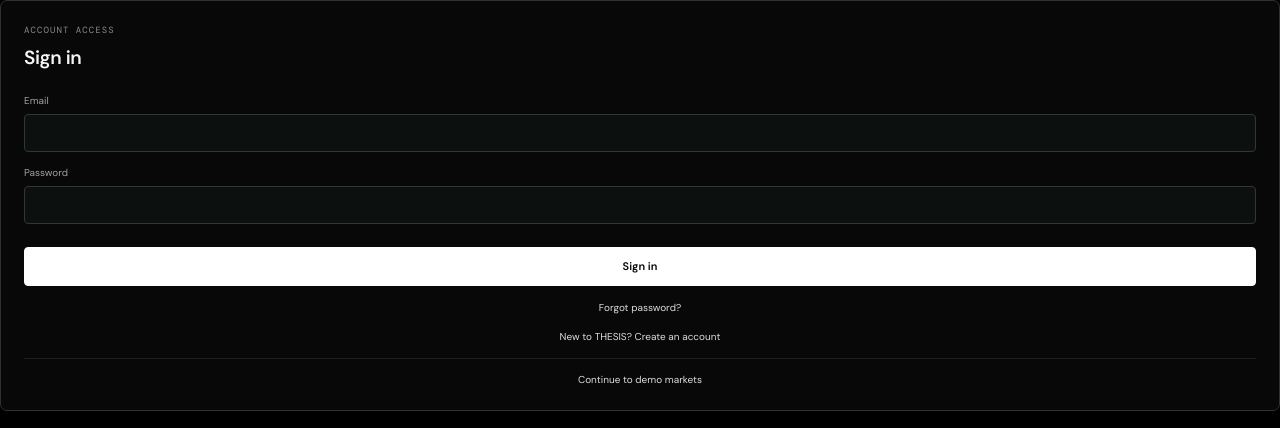
Test: AuthForm › handles duplicate signup errors distinctly
Click the button "New to THESIS? Create an account" at (640, 336), box x1=24 y1=328 x2=1256 y2=344
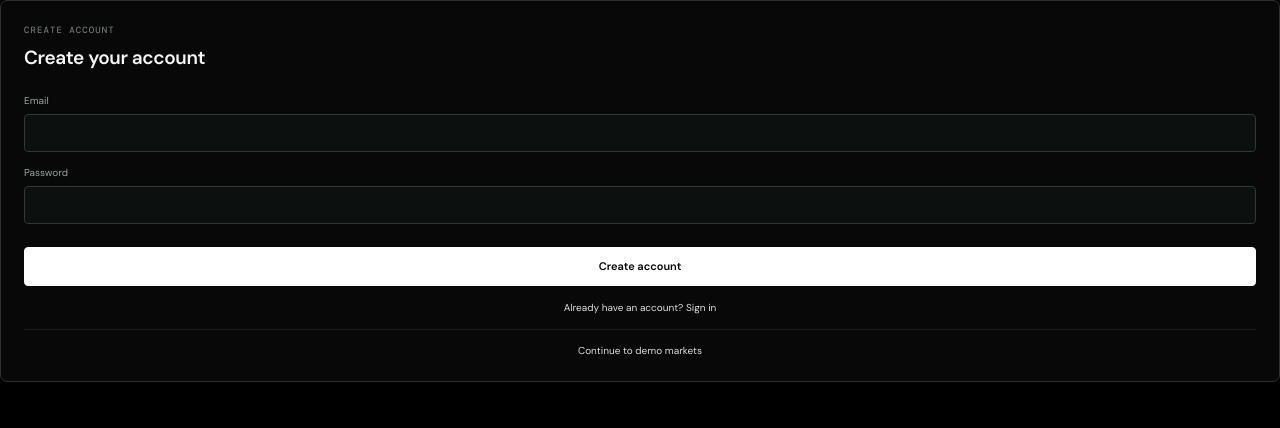
Type "trader@example.com" into the field labelled "Email" at (640, 132), box x1=24 y1=114 x2=1256 y2=152
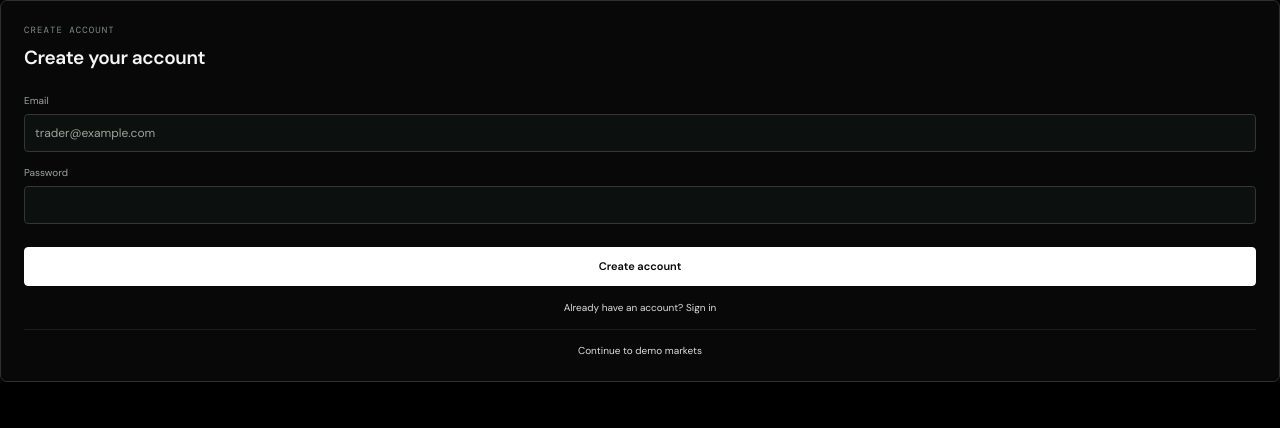
Type "correct-horse-42" into the password field labelled "Password" at (640, 204), box x1=24 y1=186 x2=1256 y2=224
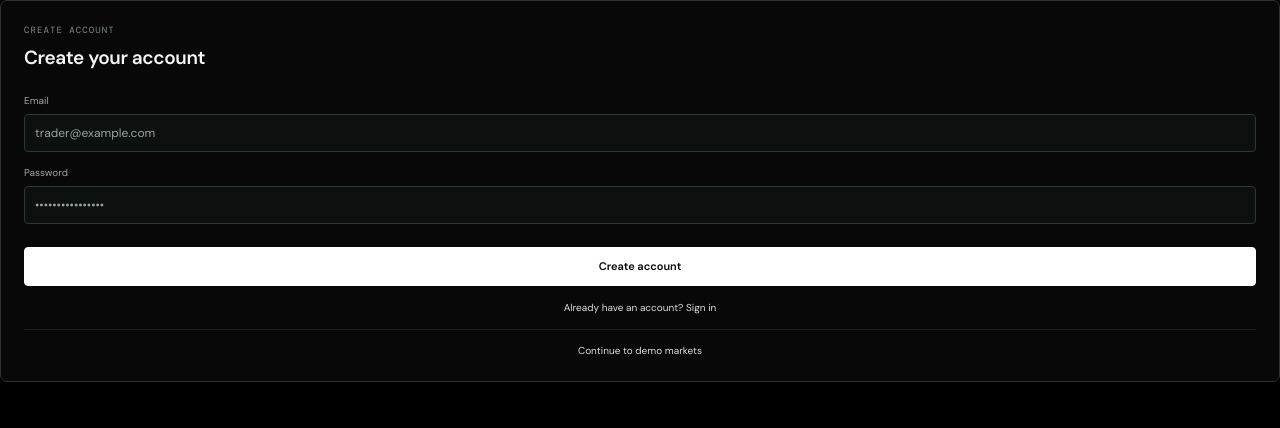
Submit the form labelled "Email", box x1=24 y1=92 x2=1256 y2=286
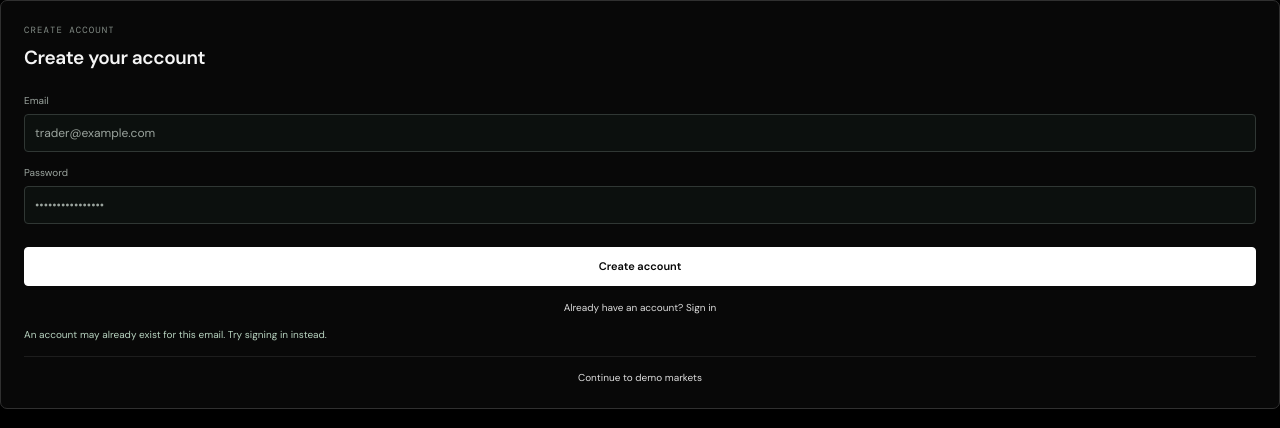
Check: the text "An account may already exist for this email. Try signing in instead." is shown, box x1=24 y1=328 x2=327 y2=340
